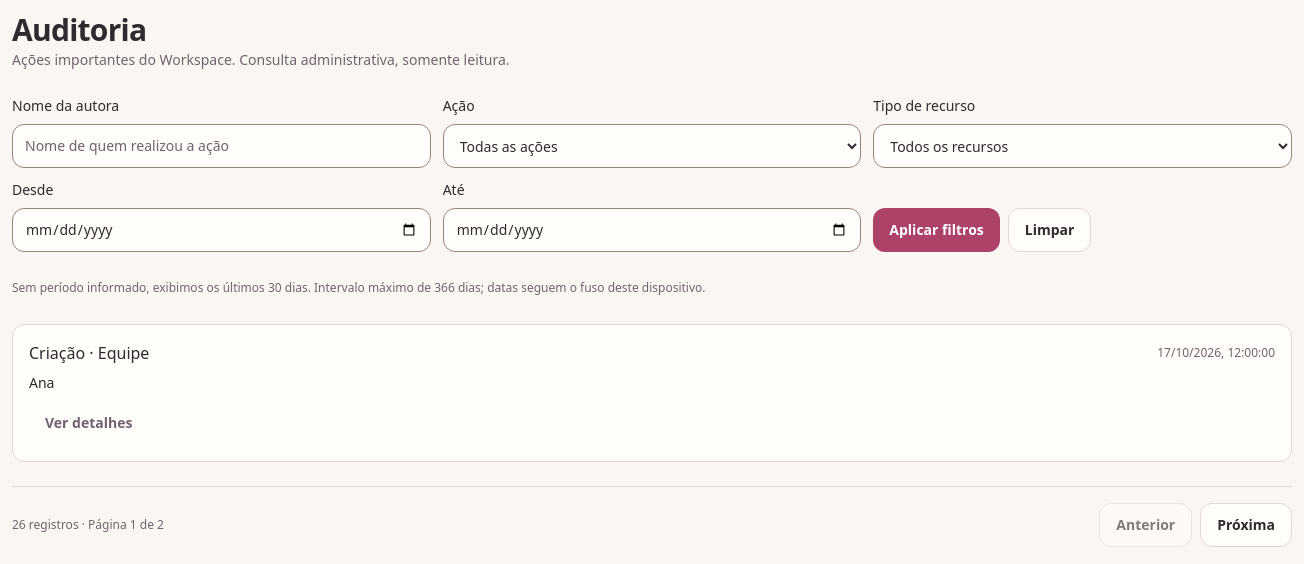
Test: permissão revogada remove os dados e permite tentar novamente
Expected: the text "Ana" is shown, 29,373 -> 54,392
Click the button "Aplicar filtros": (937, 230) 873,208 -> 1000,252
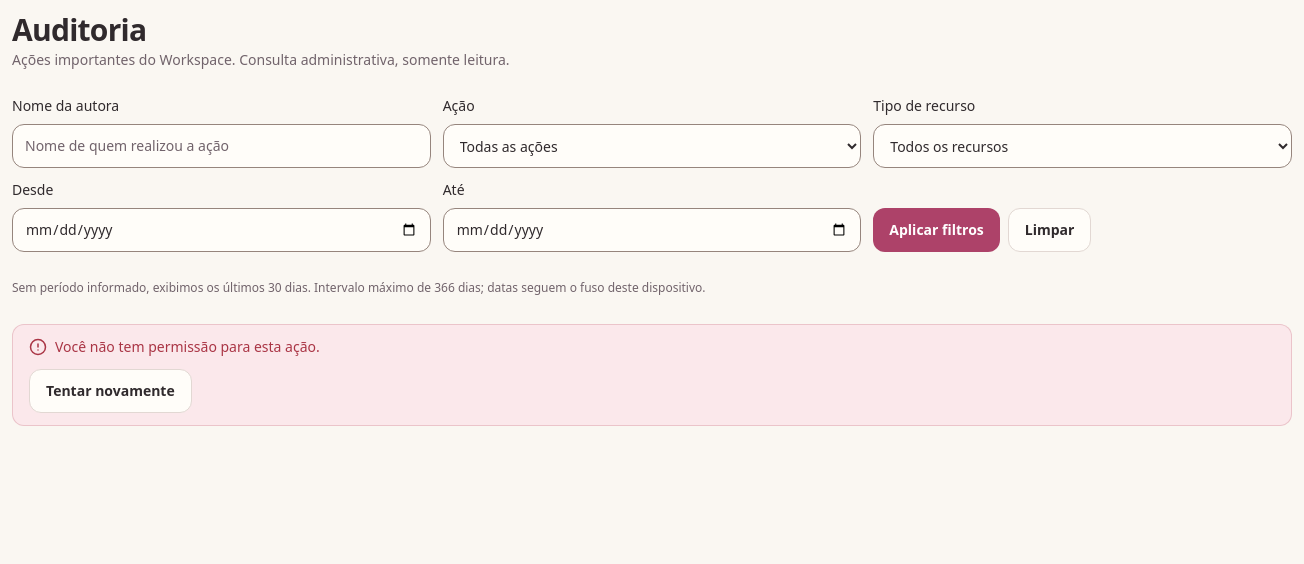
Result: the text "Você não tem permissão para esta ação." is shown at 29,337 -> 320,356
Result: the text "Ana" is gone
Click the button "Tentar novamente": (110, 391) 29,369 -> 192,413
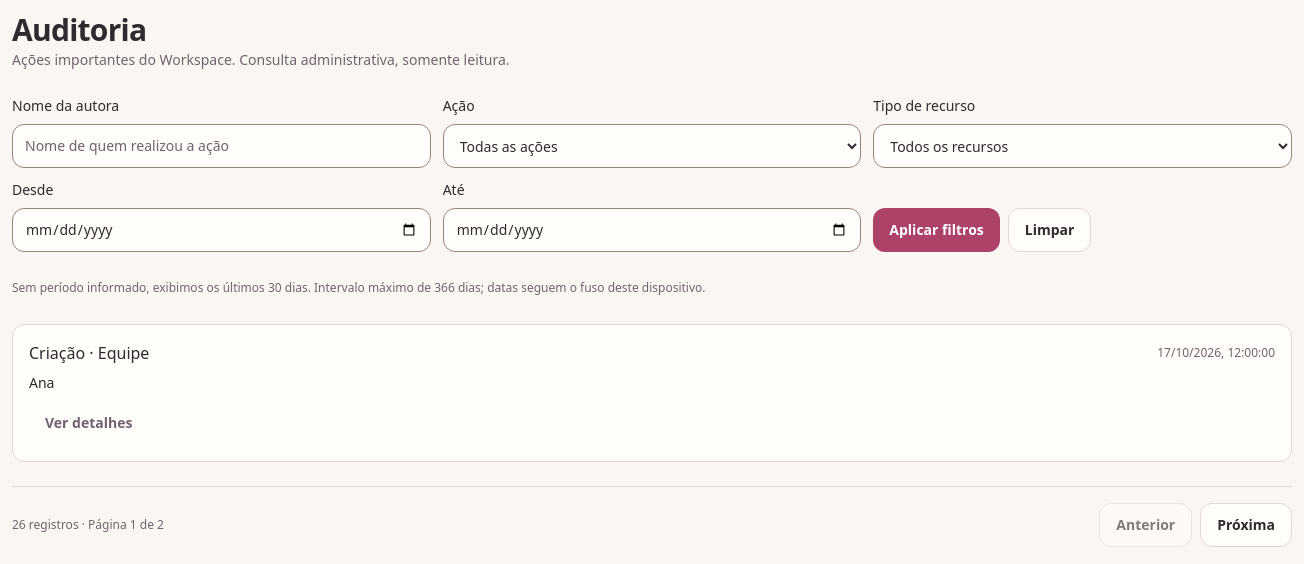
Result: the text "Ana" is shown at 29,373 -> 54,392
